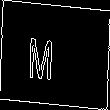M_N: (42, 28, 68, 82)
